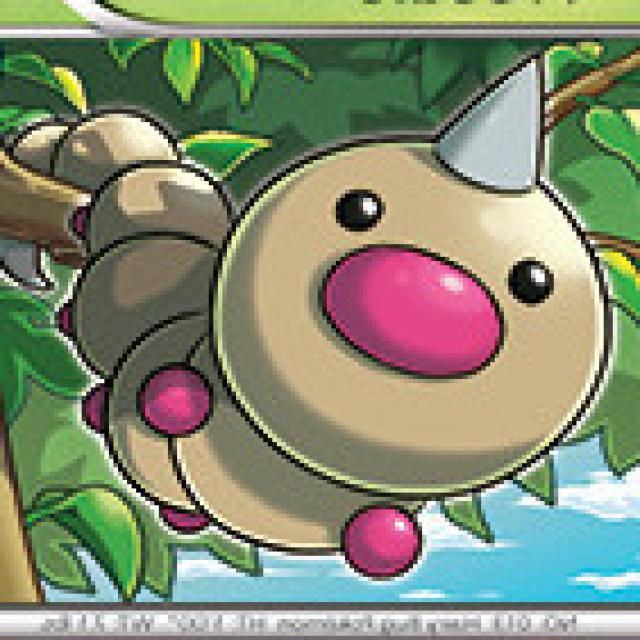Weedle: (87, 65, 592, 575)
